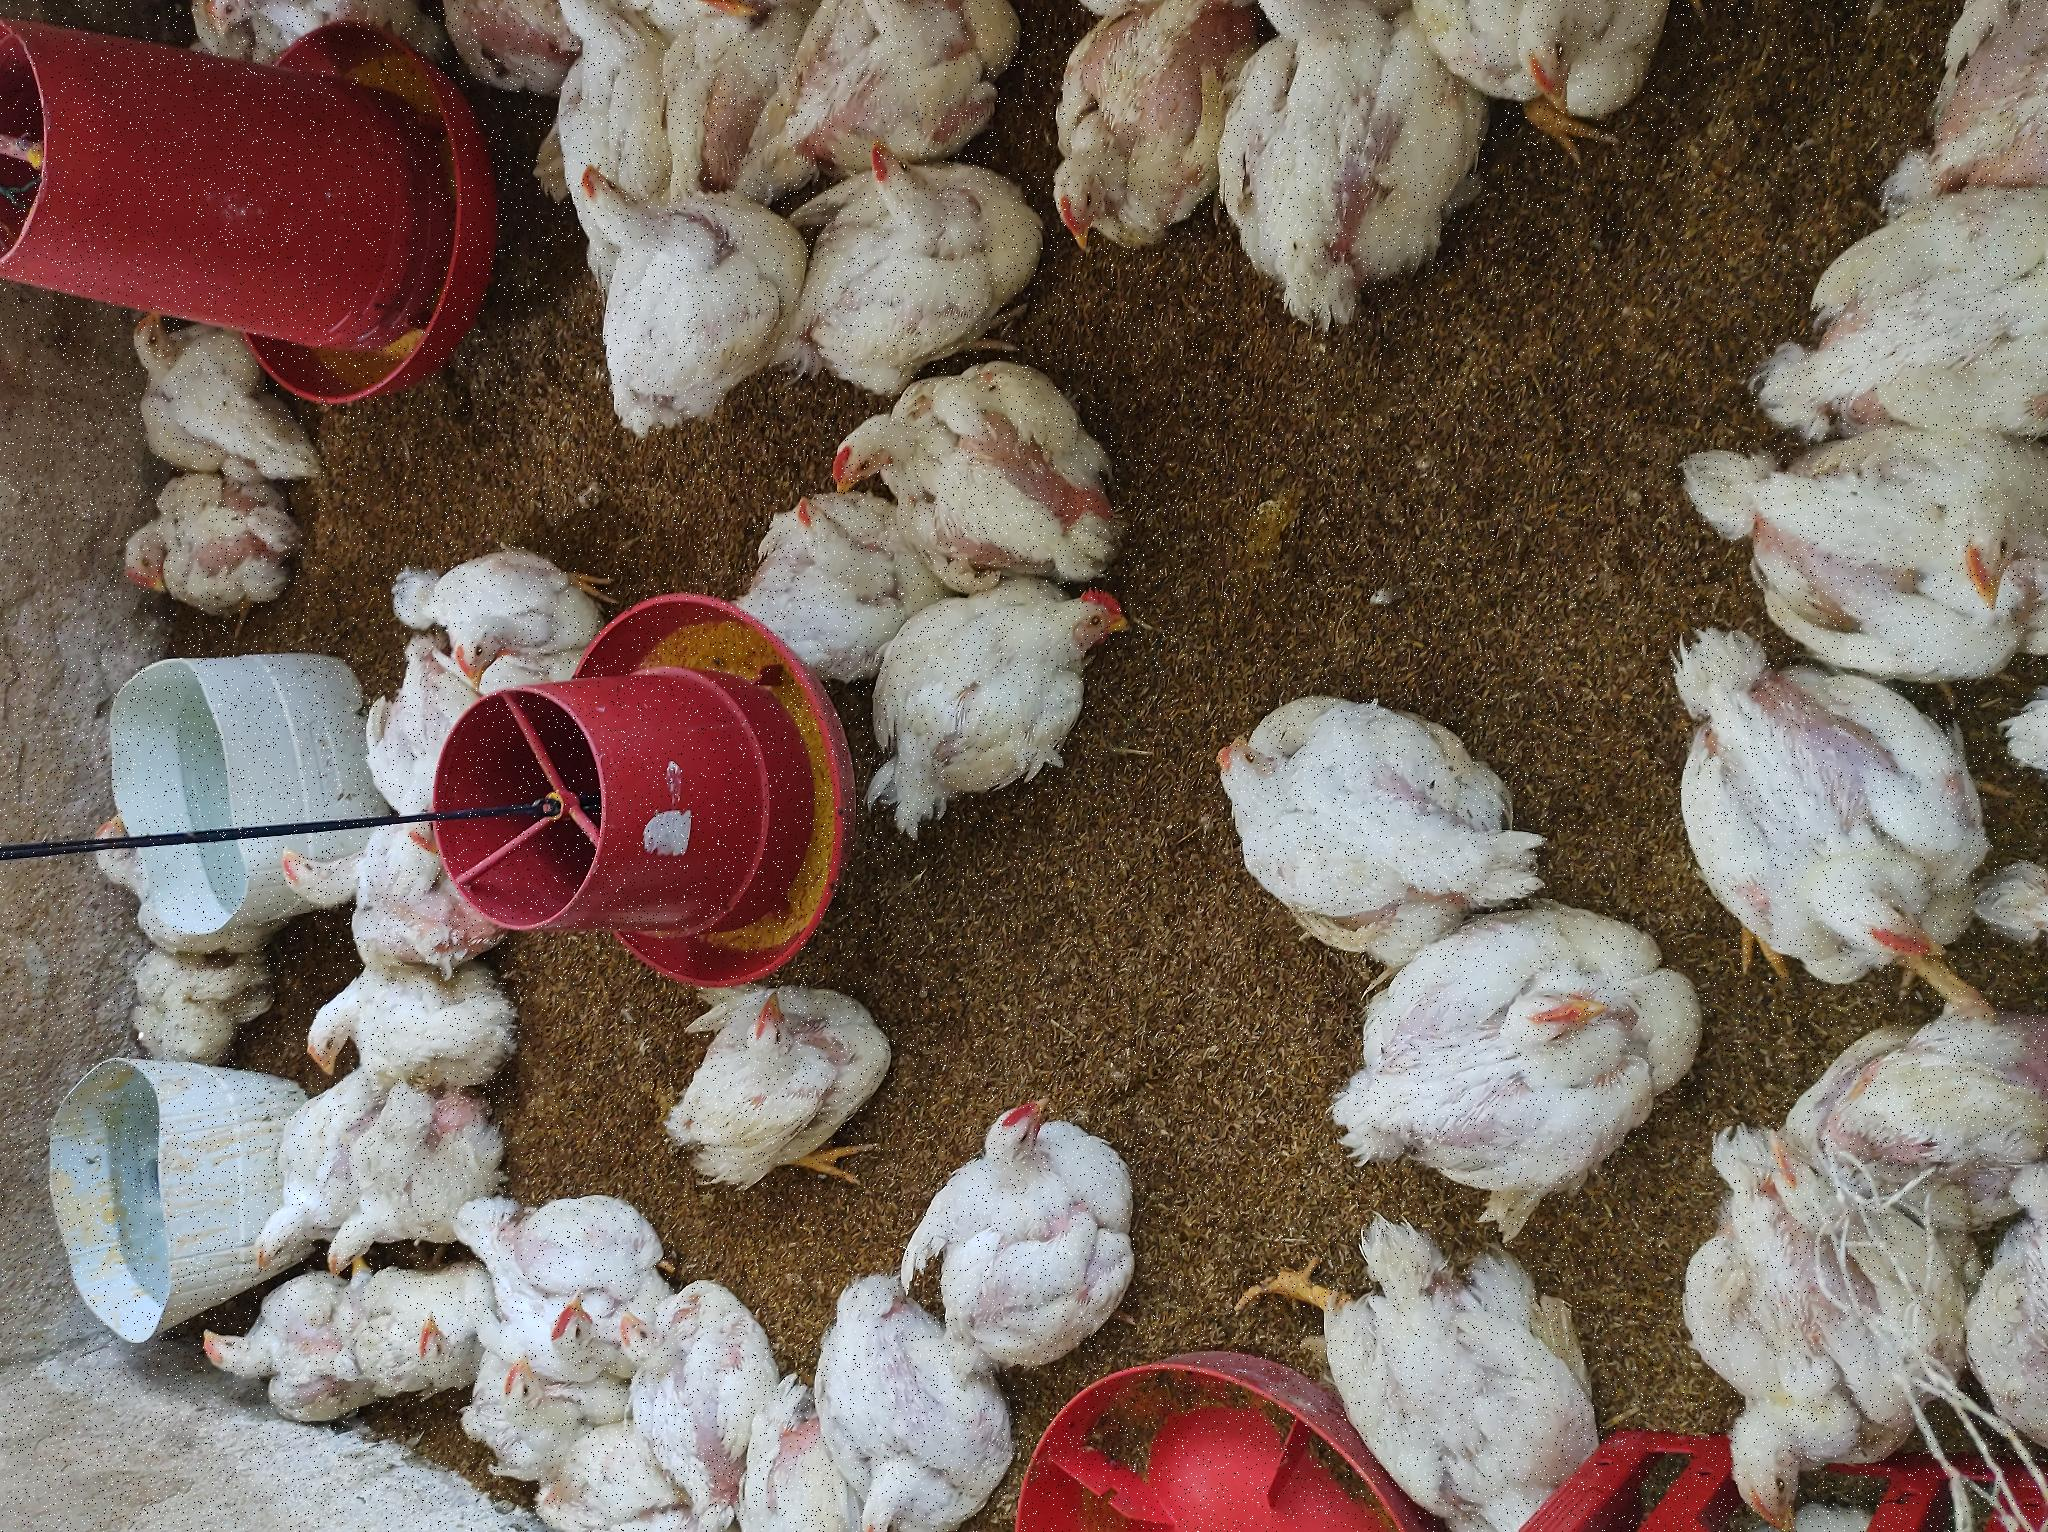Pollos: (2, 1271, 344, 1532), (602, 1183, 857, 1532), (700, 837, 948, 1160), (1252, 1175, 1530, 1461), (336, 1324, 663, 1532), (1279, 1025, 1533, 1271), (1131, 531, 1359, 805), (344, 671, 605, 908), (965, 835, 1171, 1131), (1289, 463, 1533, 706), (3, 801, 277, 1004), (191, 925, 397, 1183), (1166, 809, 1372, 1048), (1384, 724, 1533, 1006), (2, 608, 235, 774), (870, 702, 1063, 895), (439, 299, 611, 499), (257, 323, 446, 500), (561, 256, 713, 472), (808, 401, 983, 584), (101, 175, 248, 394), (557, 80, 740, 251), (256, 225, 459, 377), (919, 93, 1054, 319), (1057, 106, 1203, 307), (687, 377, 898, 500), (465, 105, 584, 269), (2, 500, 156, 603), (1474, 198, 1533, 443), (1372, 1442, 1532, 1532), (143, 375, 273, 473), (134, 537, 240, 632)
